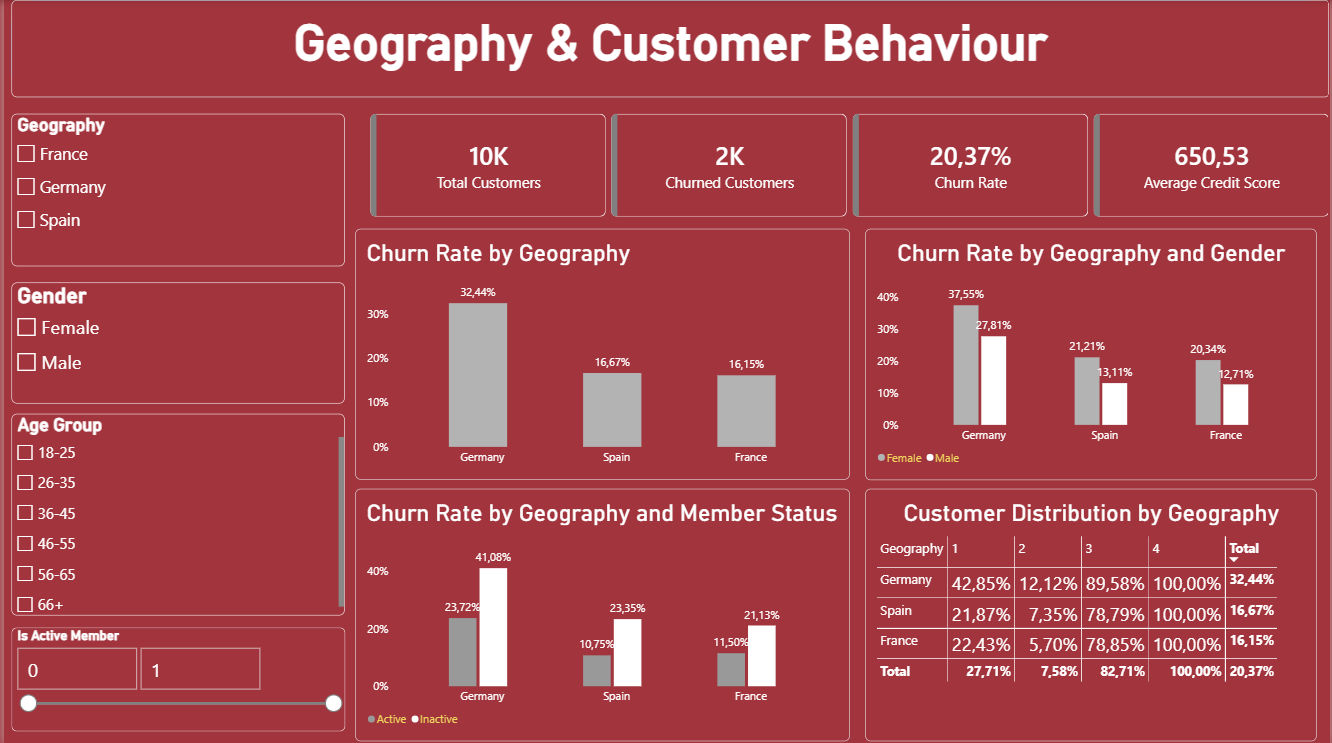

What the dashboard file says about the page in this screenshot:
{"tool":"powerbi","page":{"name":"Geography & Customer Behaviour","canvas":[1920,1080],"ordinal":4},"visuals":[{"type":"textbox","box":[10.8,0,1908.8,279.2],"z":0},{"type":"shape","box":[10.8,0,1908.8,140.7],"z":1000},{"type":"textbox","box":[10.8,0,1908.8,140.7],"z":2000},{"type":"cardVisual","fields":{"Data":["churn.Total Customers","churn.Churned Customers","churn.Churn Rate","churn.Average Credit Score"]},"box":[530.2,164.5,1389.4,149.3],"z":3000},{"type":"clusteredColumnChart","fields":{"Category":["churn.Geography"],"Y":["churn.Churn Rate"]},"box":[508.6,331.1,716.3,363.6],"z":4000},{"type":"clusteredColumnChart","fields":{"Category":["churn.Geography"],"Series":["churn.Gender"],"Y":["churn.Churn Rate"]},"box":[1246.9,331.2,653.3,363.7],"z":5000},{"type":"pivotTable","title":"Customer Distribution by Geography","fields":{"Columns":["churn.No. Of Products"],"Rows":["churn.Geography"],"Values":["churn.Churn Rate"]},"box":[1246.5,707.7,653.6,365.7],"z":6000},{"type":"slicer","fields":{"Values":["churn.Geography"]},"box":[10.8,164.5,482.6,220.7],"z":7000},{"type":"slicer","fields":{"Values":["churn.Gender"]},"box":[10.8,409,482.6,175.3],"z":8000},{"type":"slicer","fields":{"Values":["churn.Age Group"]},"box":[10.8,599.5,482.6,292.2],"z":9000},{"type":"slicer","fields":{"Values":["churn.Is Active Member"]},"box":[10.8,908.9,483,150],"z":10000},{"type":"clusteredColumnChart","fields":{"Category":["churn.Geography"],"Series":["churn.Member Status"],"Y":["churn.Churn Rate"]},"box":[508.6,707.7,716.3,365.7],"z":11000}]}

Visuals, with their boxes in screenshot pixels (x1, y1, x2, y2), scaled from the page's 1920x1080 canvas onto the 1332x743 screenshot:
textbox: (7, 0, 1331, 192)
shape: (7, 0, 1331, 97)
textbox: (7, 0, 1331, 97)
cardVisual - churn.Total Customers x churn.Churned Customers: (368, 113, 1331, 216)
clusteredColumnChart - churn.Geography x churn.Churn Rate: (353, 228, 850, 478)
clusteredColumnChart - churn.Geography x churn.Gender: (865, 228, 1318, 478)
"Customer Distribution by Geography" pivotTable: (865, 487, 1318, 738)
slicer - churn.Geography: (7, 113, 342, 265)
slicer - churn.Gender: (7, 281, 342, 402)
slicer - churn.Age Group: (7, 412, 342, 613)
slicer - churn.Is Active Member: (7, 625, 343, 728)
clusteredColumnChart - churn.Geography x churn.Member Status: (353, 487, 850, 738)
